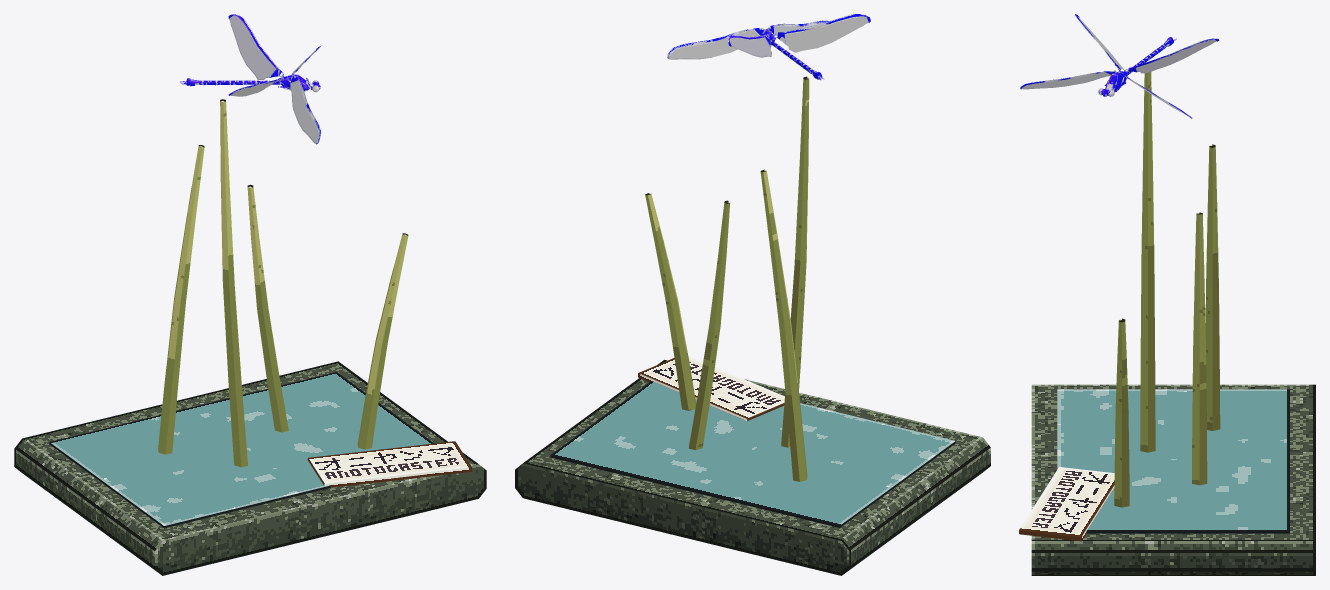
Rendered from tonbo.glb.
The picture shows the model from 3 angles, left to right: view 1: azimuth 30°, elevation 25°; view 2: azimuth 150°, elevation 25°; view 3: azimuth 270°, elevation 25°; orthographic projection.
Visible parts, largest first — view 1: water, base, label, reed1, model_fly, reed0, reed2, reed3; view 2: water, base, model_fly, reed0, label, reed1, reed2, reed3; view 3: water, base, reed1, label, reed0, reed2, model_fly, reed3.
Part boxes in pixels (x1,y1,x2,y2): water: [49, 372, 433, 528]; base: [14, 361, 486, 575]; label: [307, 441, 472, 487]; reed1: [220, 99, 247, 467]; model_fly: [180, 14, 321, 144]; reed0: [158, 145, 204, 454]; reed2: [247, 184, 288, 432]; reed3: [357, 233, 408, 449]; water: [550, 381, 955, 527]; base: [515, 359, 990, 575]; model_fly: [667, 14, 870, 80]; reed0: [760, 169, 807, 481]; label: [638, 356, 784, 420]; reed1: [781, 76, 809, 447]; reed2: [688, 200, 730, 450]; reed3: [645, 193, 696, 410]; water: [1057, 389, 1289, 533]; base: [1031, 384, 1315, 575]; reed1: [1140, 72, 1155, 452]; label: [1019, 467, 1114, 541]; reed0: [1205, 144, 1220, 430]; reed2: [1192, 212, 1207, 485]; model_fly: [1020, 14, 1219, 118]; reed3: [1114, 318, 1129, 507].
Bounding box in the file's own units: 30 × 39.45 × 22.97.
2 materials, 2 textured.
